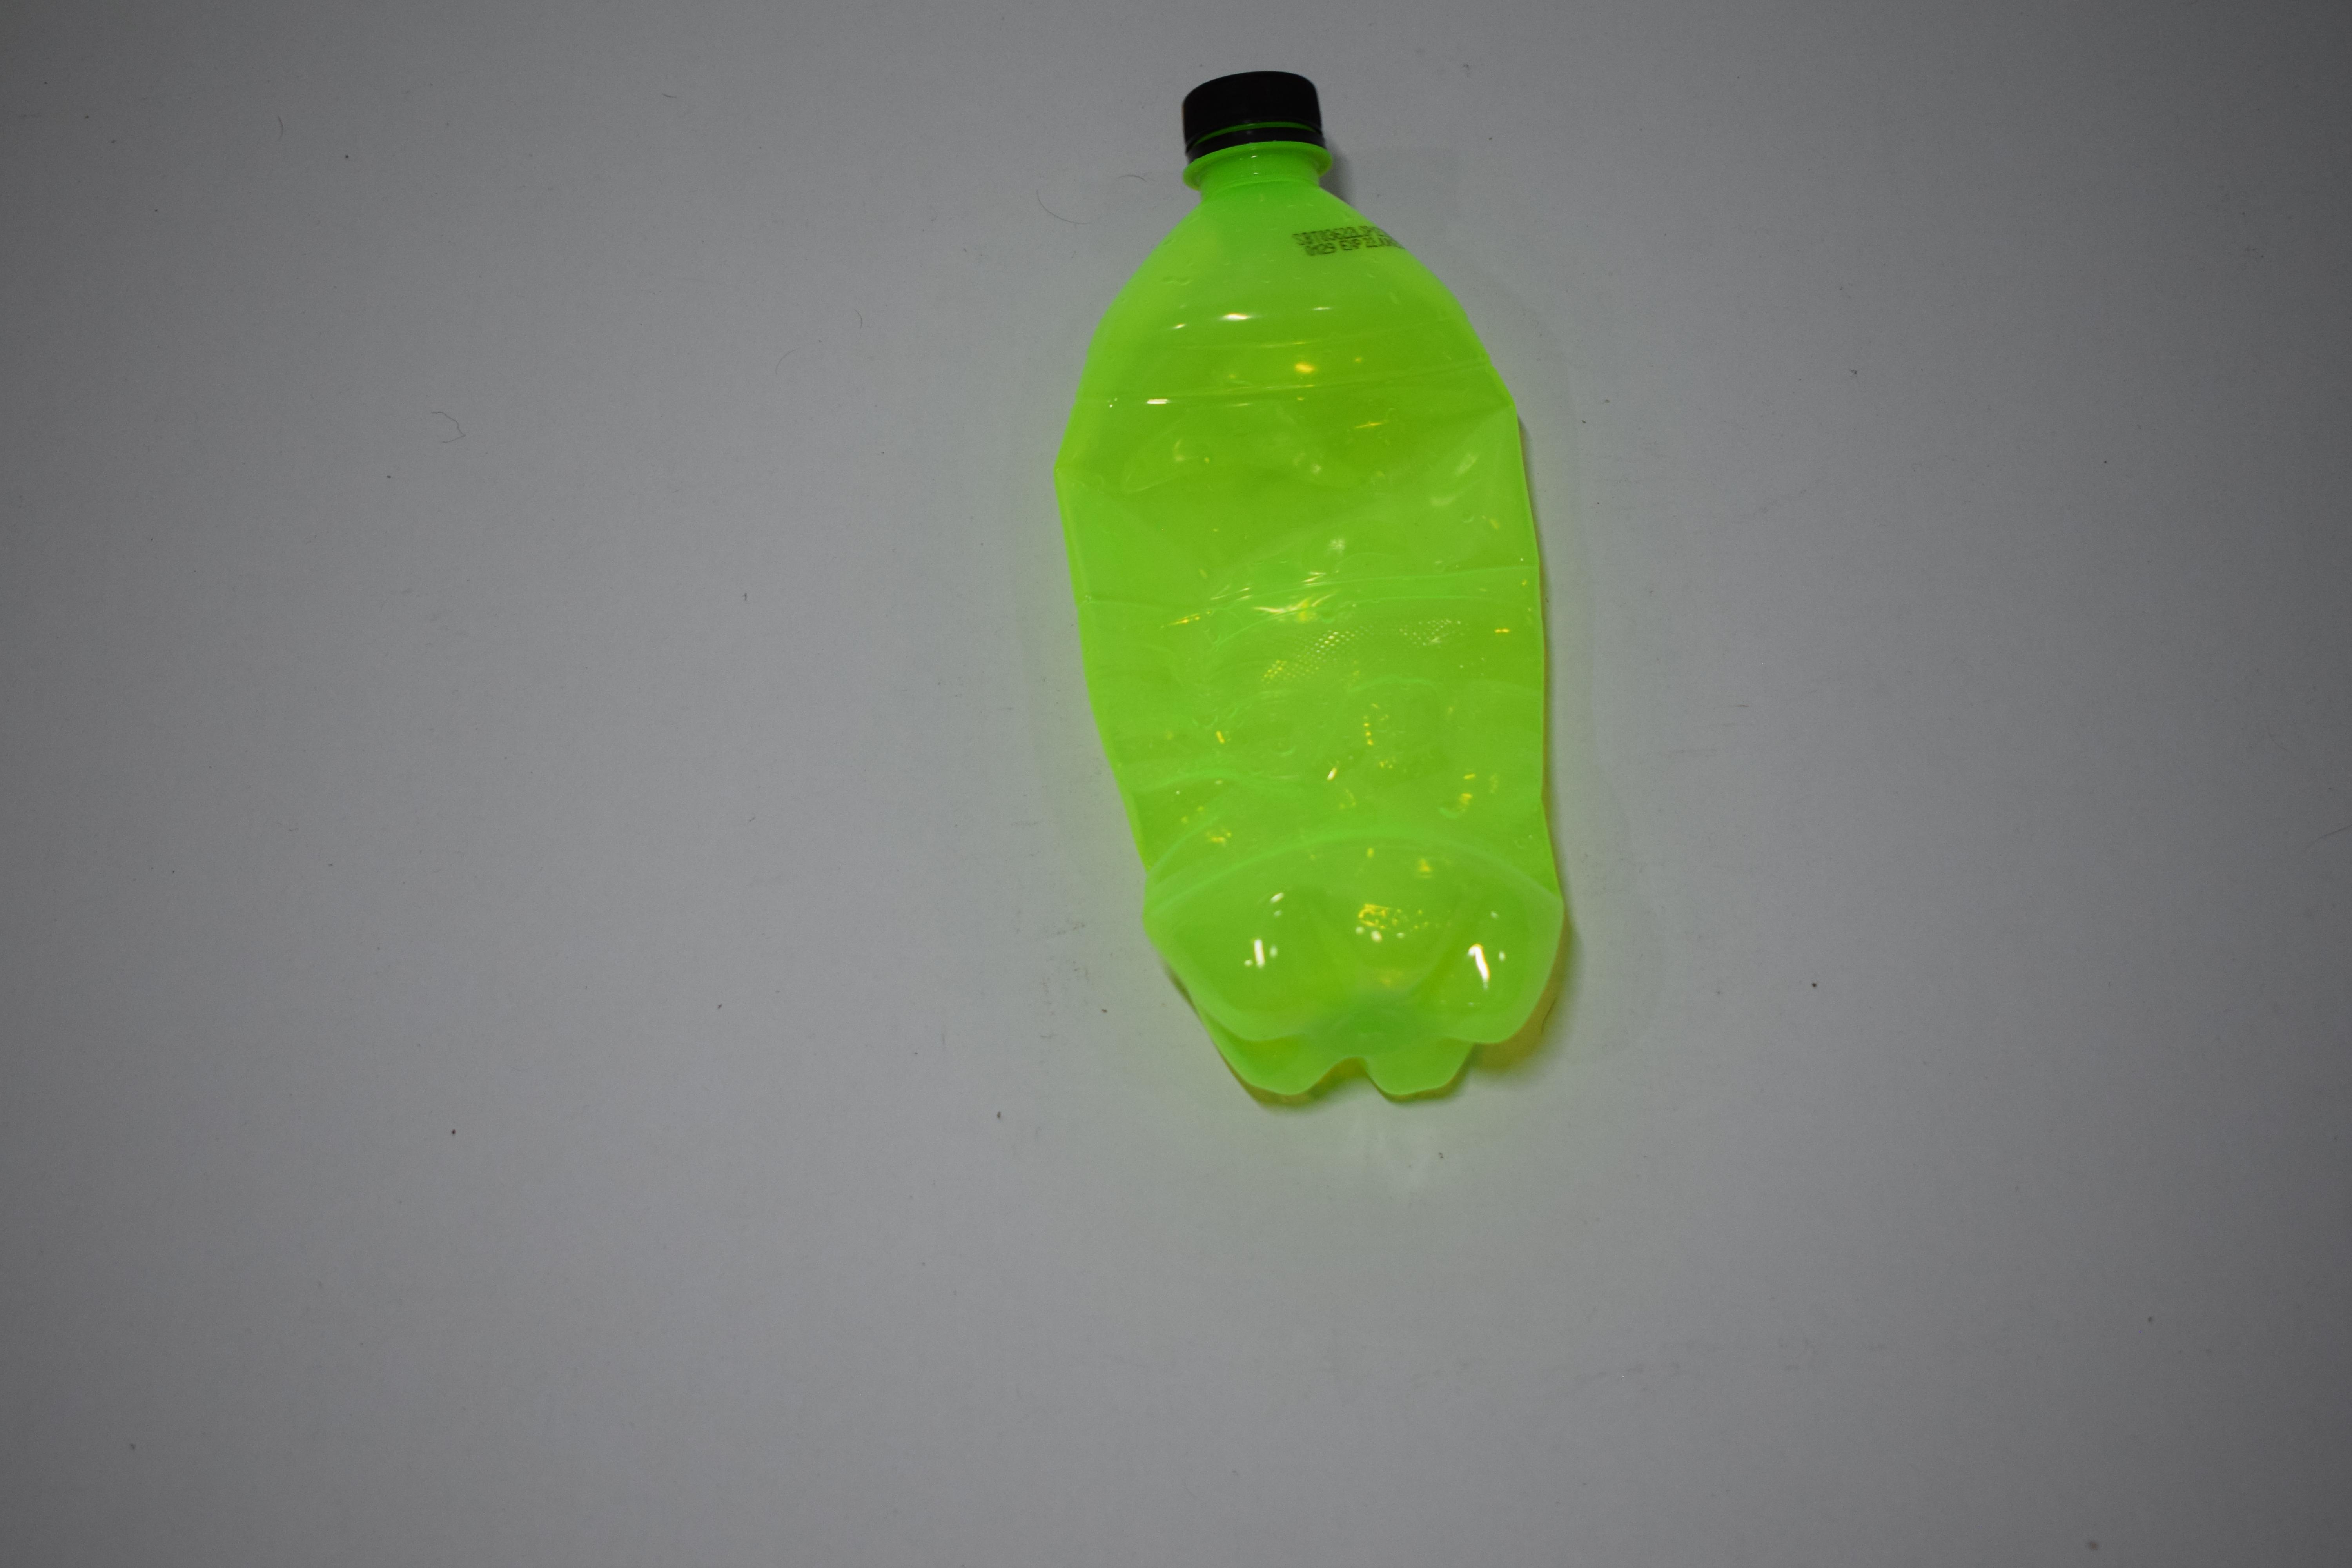bottle: (0, 59, 276, 1113)
